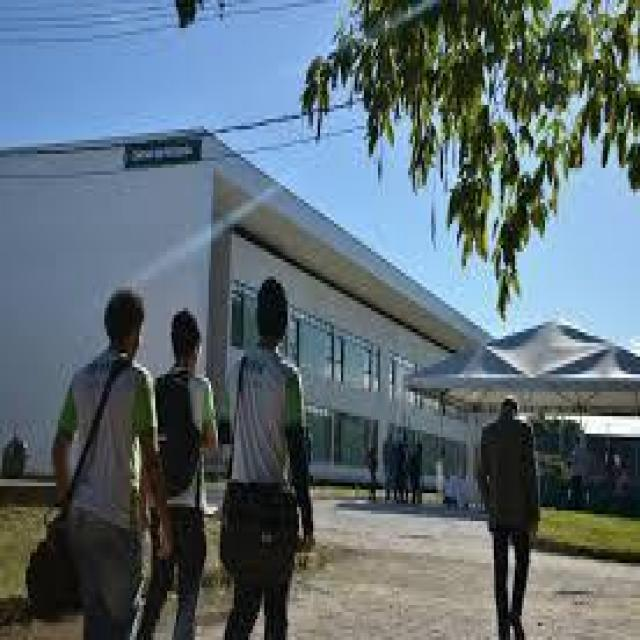person: (220, 220, 336, 626), (46, 214, 156, 636), (137, 273, 227, 636), (464, 370, 545, 636)
